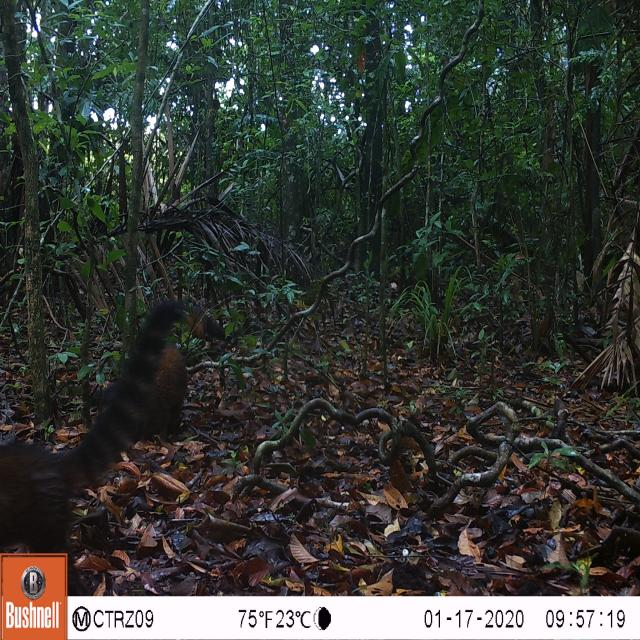South American Coati: (0, 290, 235, 554), (74, 333, 193, 442)
